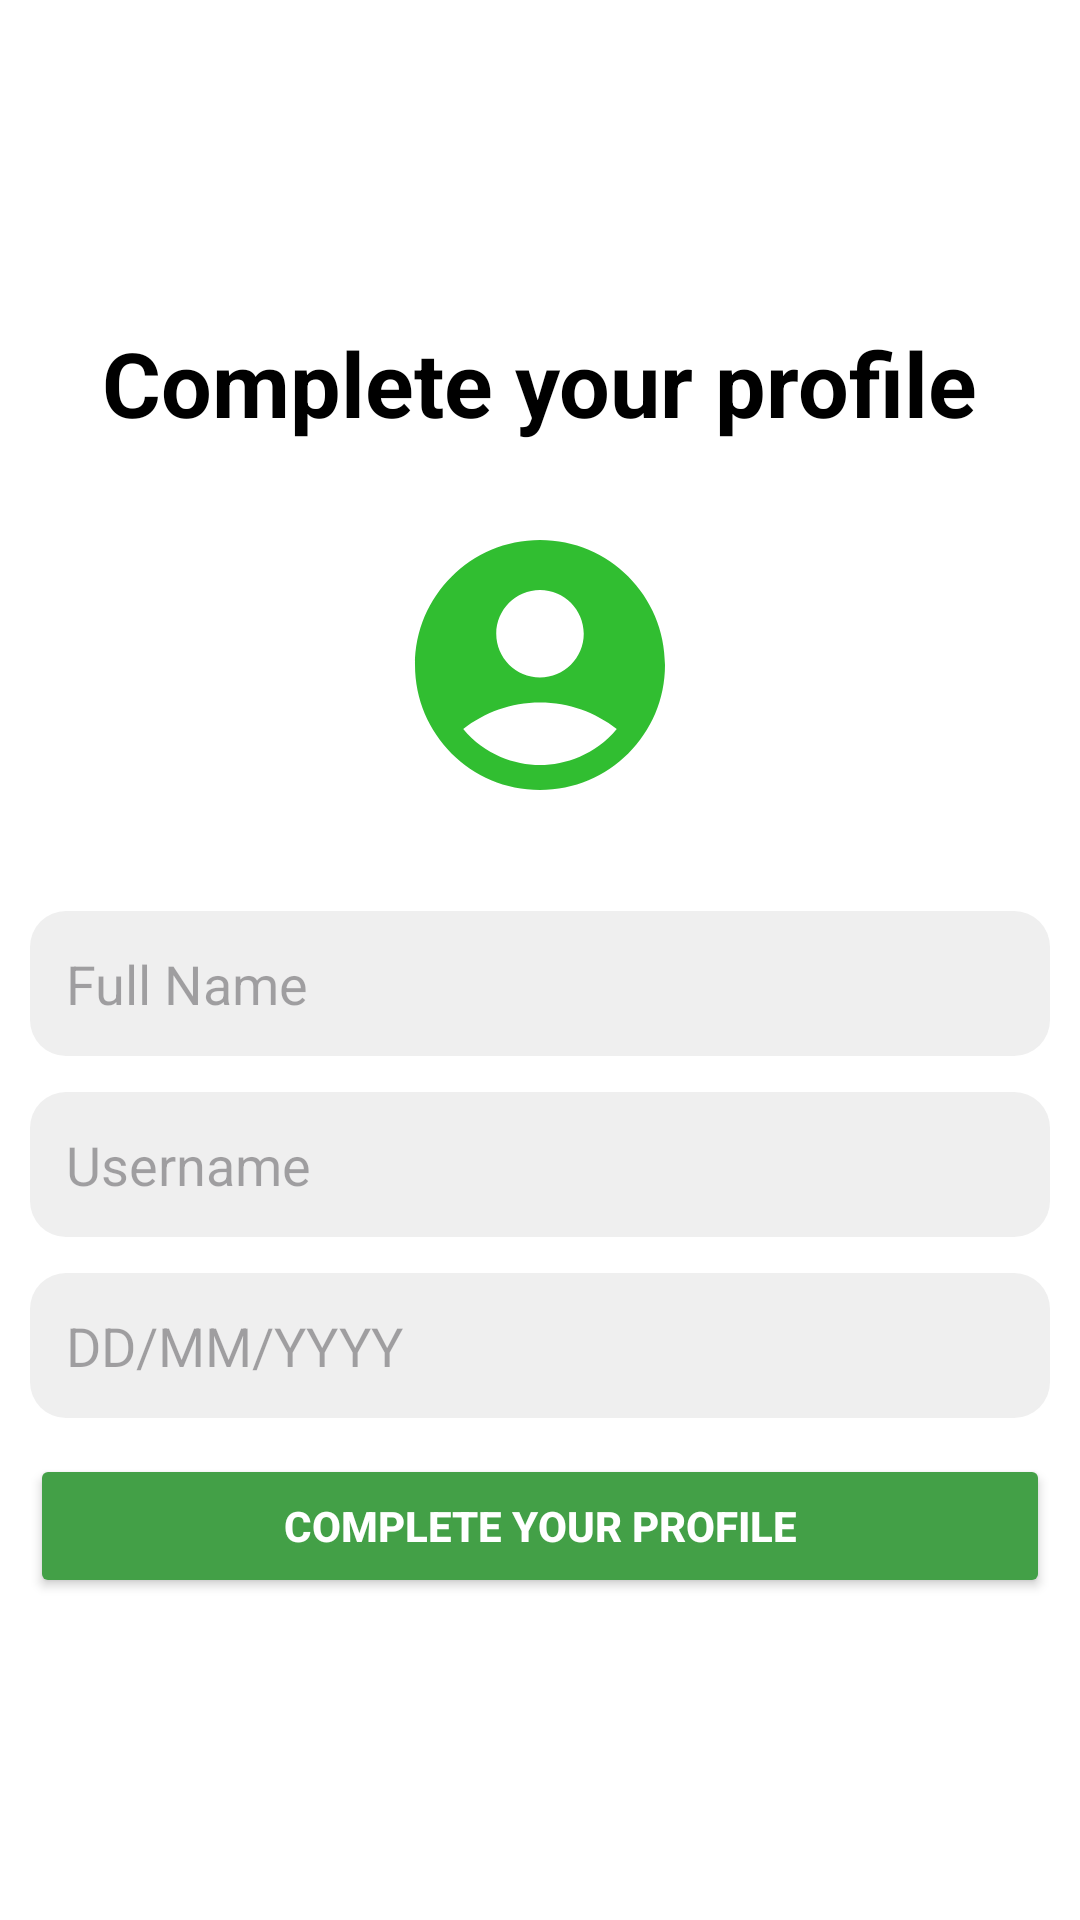

Named icons in this screenshot (1080px x 1920px) and their bounding boxes, box(x1, y1, x2, y2):
account circle: box(415, 540, 665, 790)
